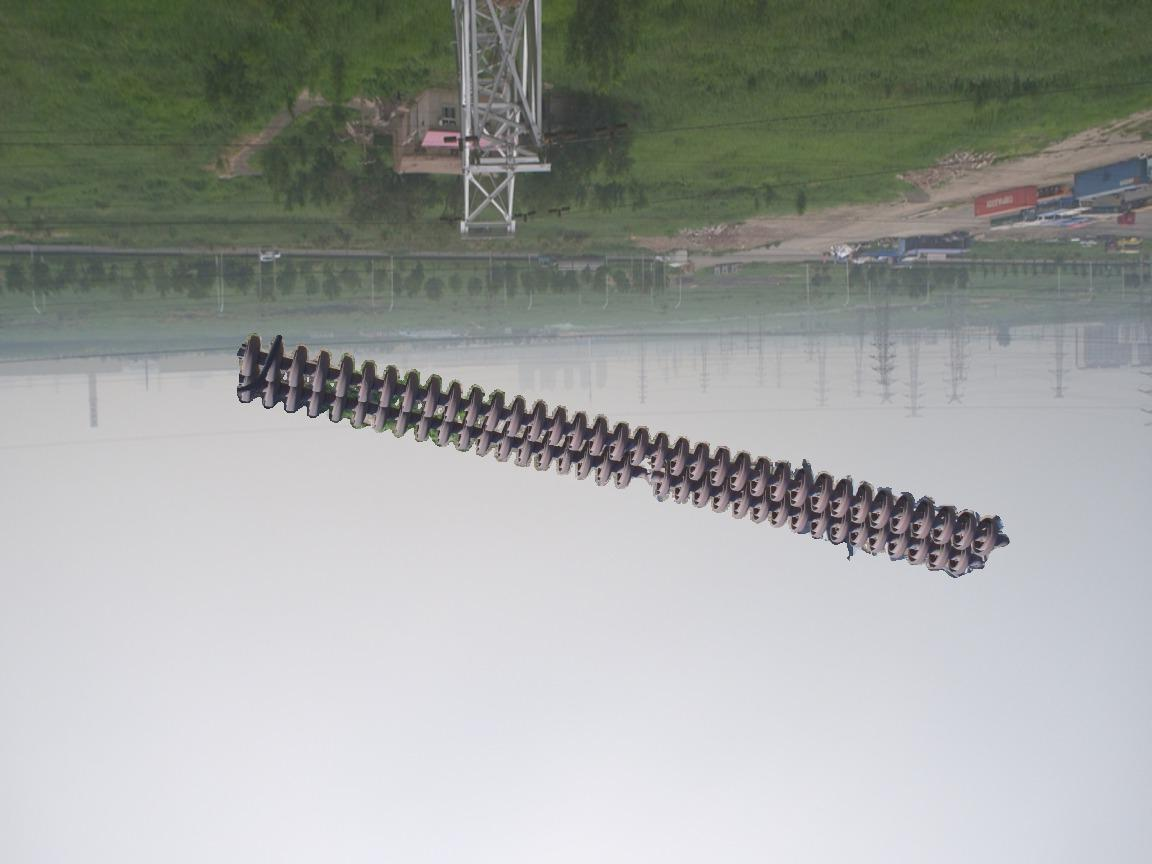insulator: (229, 325, 1012, 581)
insulator_stringdrop: (614, 454, 671, 505)
